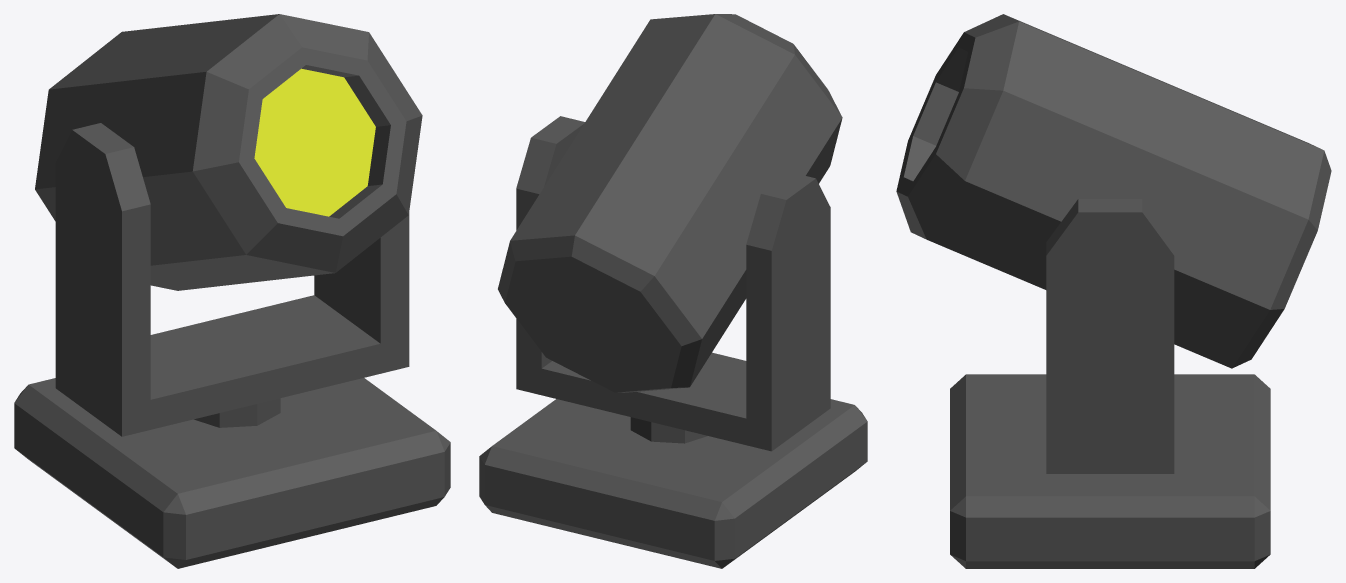
File: donotenter.glb
The picture shows the model from 3 angles, left to right: view 1: azimuth 30°, elevation 25°; view 2: azimuth 150°, elevation 25°; view 3: azimuth 270°, elevation 25°; orthographic projection. The views are drawn at different scales.
Visible parts, largest first — view 1: donotenter; view 2: donotenter; view 3: donotenter.
Boxes of the visible parts, box(x1,y1,x2,y2) form: donotenter: box(14, 14, 450, 568); donotenter: box(479, 14, 867, 568); donotenter: box(896, 14, 1331, 568).
Size of the model in its own units: 2 by 3.35 by 2.71.
